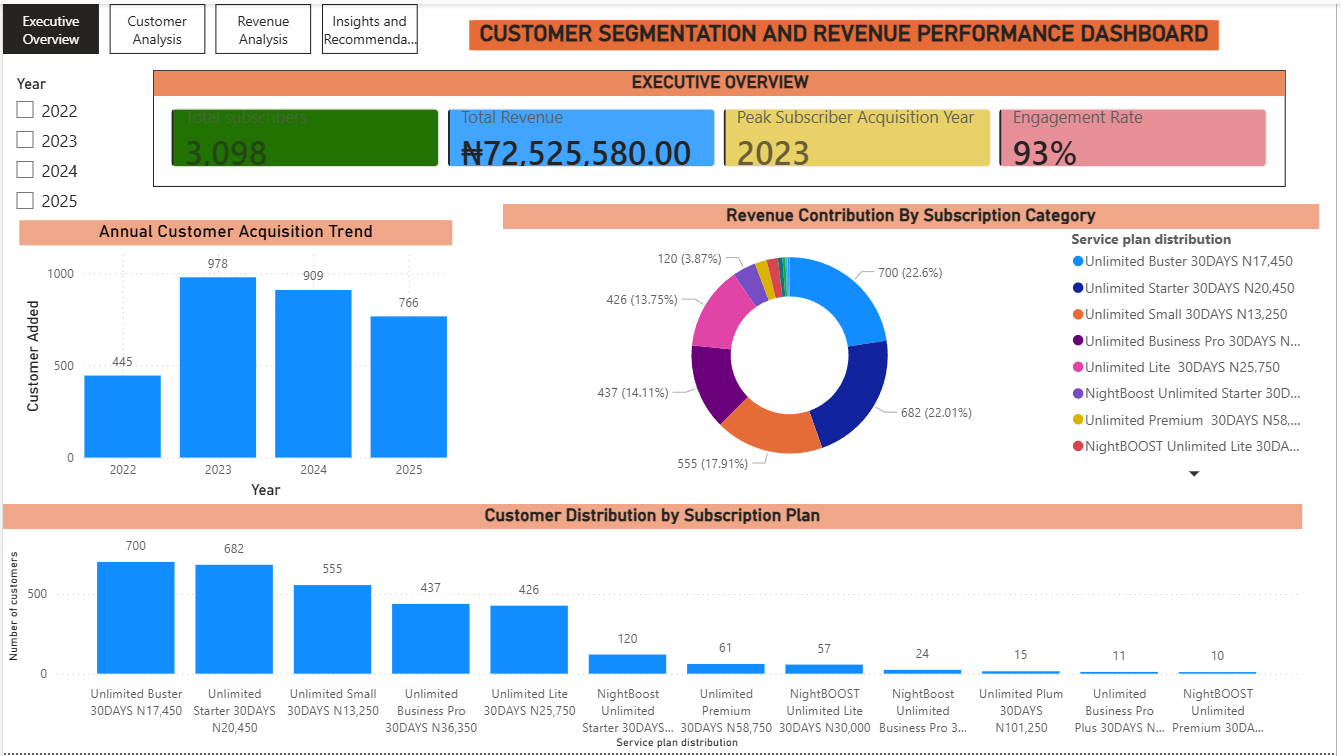

The page's visual inventory and layout, read from the dashboard file:
{"tool":"powerbi","page":{"name":"Executive Overview","canvas":[1280,720],"ordinal":0},"visuals":[{"type":"textbox","box":[240,0,1040,32],"z":0},{"type":"clusteredColumnChart","title":"Annual Customer Acquisition Trend","fields":{"Category":["ANNUAL SUBCRIBER BASE ANALYSIS.Year"],"Y":["Sum(ANNUAL SUBCRIBER BASE ANALYSIS.Customer Added Per year)"]},"box":[16,208,416,272],"z":1000},{"type":"donutChart","title":"Revenue Contribution By Subscription Category","fields":{"Category":["TOTAL REVENUE.Service plan distribution"],"Y":["Sum(TOTAL REVENUE. No. of clients)"]},"box":[480,192,784,272],"z":2000},{"type":"lineStackedColumnComboChart","title":"Customer Distribution by Subscription Plan","fields":{"Category":["TOTAL REVENUE.Service plan distribution"],"Y":["Sum(TOTAL REVENUE. No. of clients)"]},"box":[0,480,1248,240],"z":3000},{"type":"cardVisual","title":"EXECUTIVE OVERVIEW","fields":{"Data":["Sum(Executive Summary.Total subscribers  )","Sum(Executive Summary.Revenue   )","Sum(Executive Summary.Peak Subscriber Acquisition Year)","Sum(Executive Summary.Customer Engagement Rate)"]},"box":[144,64,1088,112],"z":4000},{"type":"pageNavigator","box":[0,0,400,48],"z":5000},{"type":"slicer","fields":{"Values":["ANNUAL SUBCRIBER BASE ANALYSIS.Year"]},"box":[0,64,96,144],"z":6000}]}

Visuals, with their boxes in screenshot pixels (x1, y1, x2, y2), scaled from the page's 1280x720 canvas onto the 1341x756 screenshot:
textbox: {"left": 251, "top": 0, "right": 1340, "bottom": 34}
"Annual Customer Acquisition Trend" clusteredColumnChart: {"left": 17, "top": 218, "right": 453, "bottom": 504}
"Revenue Contribution By Subscription Category" donutChart: {"left": 503, "top": 202, "right": 1324, "bottom": 487}
"Customer Distribution by Subscription Plan" lineStackedColumnComboChart: {"left": 0, "top": 504, "right": 1307, "bottom": 755}
"EXECUTIVE OVERVIEW" cardVisual: {"left": 151, "top": 67, "right": 1291, "bottom": 185}
pageNavigator: {"left": 0, "top": 0, "right": 419, "bottom": 50}
slicer - ANNUAL SUBCRIBER BASE ANALYSIS.Year: {"left": 0, "top": 67, "right": 101, "bottom": 218}
